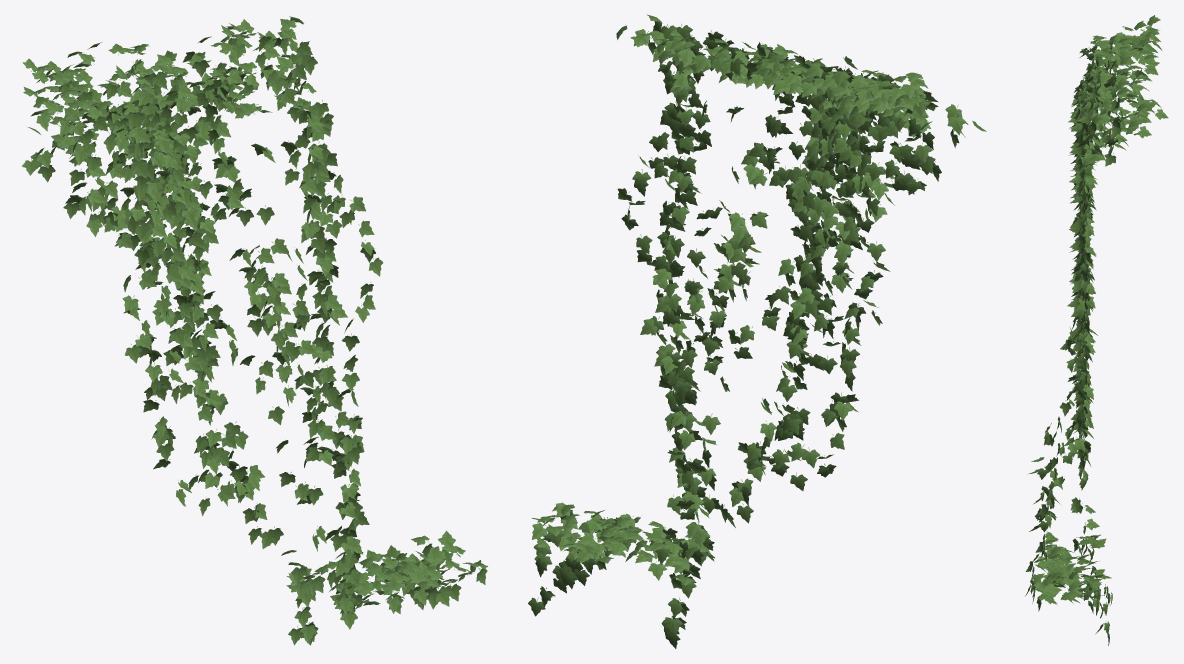
Rendered from SM_Ivy_Leaf.fbx.
The picture shows the model from 3 angles, left to right: view 1: azimuth 30°, elevation 25°; view 2: azimuth 150°, elevation 25°; view 3: azimuth 270°, elevation 25°; orthographic projection. The views are drawn at different scales.
Visible parts, largest first — view 1: SM_Ivy_Leaf_LOD0; view 2: SM_Ivy_Leaf_LOD0; view 3: SM_Ivy_Leaf_LOD0.
Boxes of the visible parts, x1,y1,x2,y2 form: SM_Ivy_Leaf_LOD0: (22,16,487,645); SM_Ivy_Leaf_LOD0: (528,14,986,648); SM_Ivy_Leaf_LOD0: (1025,15,1168,645).
Bounding box in the file's own units: 479 × 173 × 639.
1 material, 1 textured.
